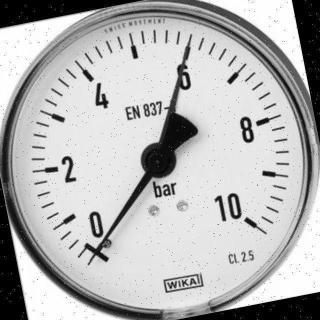gauge: (0, 0, 320, 320), (140, 141, 176, 179), (81, 234, 113, 274), (232, 201, 264, 241), (184, 30, 197, 46), (95, 239, 107, 249)
